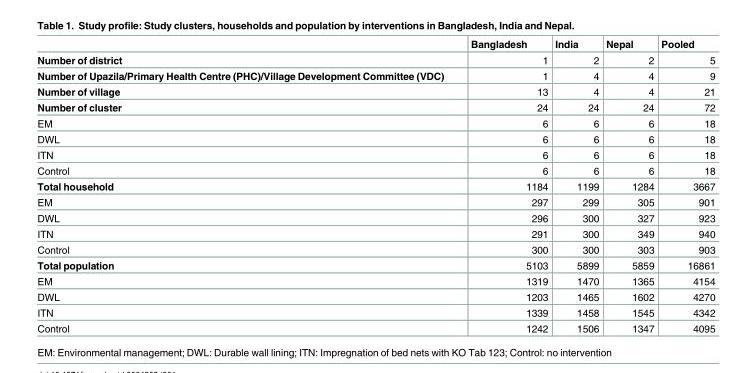table: (36, 37, 714, 333)
table column: (36, 37, 456, 333), (456, 37, 550, 333), (656, 37, 714, 333), (601, 37, 656, 333), (550, 37, 601, 333)
table column header: (36, 37, 714, 51)
table row: (36, 51, 714, 67), (36, 67, 714, 83), (36, 83, 714, 99), (36, 114, 714, 130), (36, 130, 714, 146), (36, 146, 714, 162), (36, 177, 714, 193), (36, 193, 714, 209), (36, 209, 714, 225), (36, 225, 714, 241), (36, 256, 714, 272), (36, 272, 714, 288), (36, 288, 714, 304), (36, 304, 714, 320), (36, 99, 714, 114), (36, 162, 714, 177), (36, 241, 714, 256), (36, 37, 714, 51), (36, 320, 714, 333)
